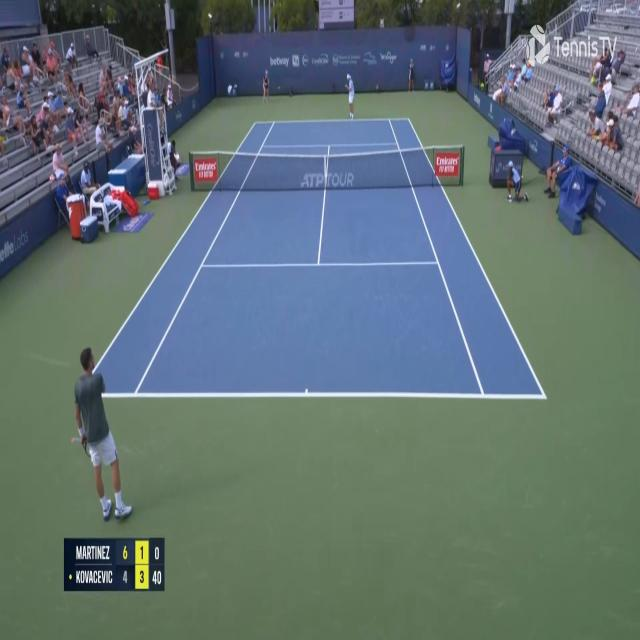tennis-player: (71, 339, 135, 528), (344, 72, 356, 121)
